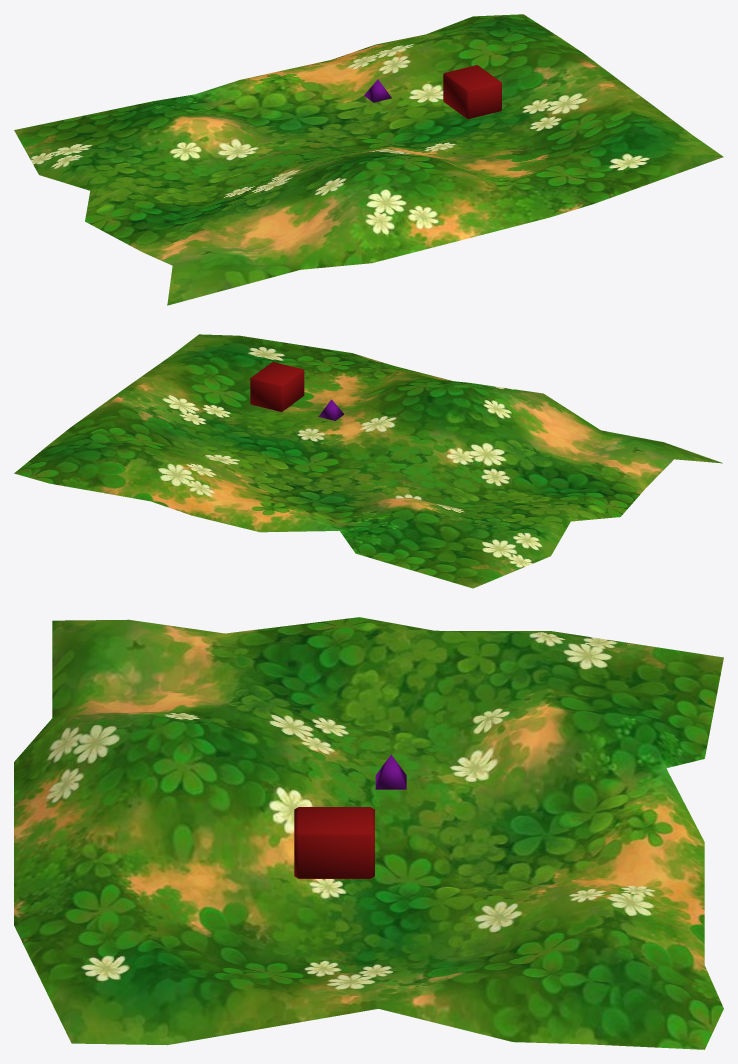
The model's file is terrain.obj.
3 renders of one model, top to bottom at view 1: azimuth 30°, elevation 25°; view 2: azimuth 150°, elevation 25°; view 3: azimuth 270°, elevation 25°, orthographic. The views are drawn at different scales.
Parts seen in each view (by area): view 1: terrain, Box001; view 2: terrain, Box001; view 3: terrain, Box001, Pyramid001.
Boxes of the visible parts, x1,y1,x2,y2 form: terrain: [14, 14, 723, 305]; Box001: [443, 65, 501, 119]; terrain: [14, 334, 722, 588]; Box001: [250, 362, 304, 411]; terrain: [14, 617, 723, 1049]; Box001: [294, 807, 374, 878]; Pyramid001: [375, 754, 406, 789].
Bounding box in the file's own units: 537 × 65.43 × 371.
